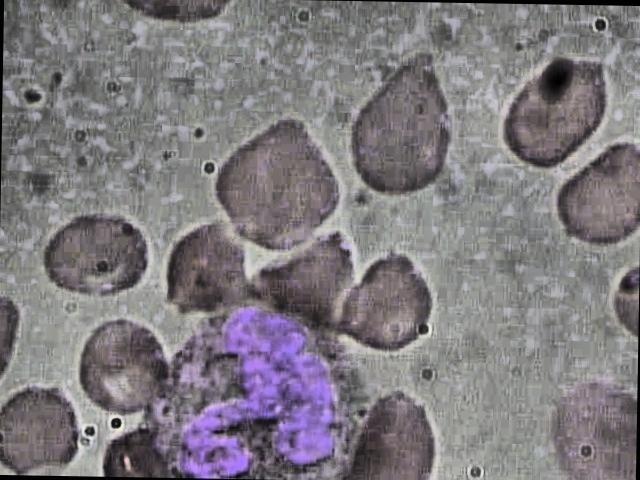RBC: (202, 110, 344, 259), (344, 47, 468, 198), (336, 228, 452, 354), (498, 49, 614, 174), (340, 357, 456, 480), (530, 360, 638, 480), (28, 208, 160, 303), (70, 316, 176, 422), (555, 139, 640, 252), (0, 380, 82, 472)
WBC: (143, 301, 367, 480)
